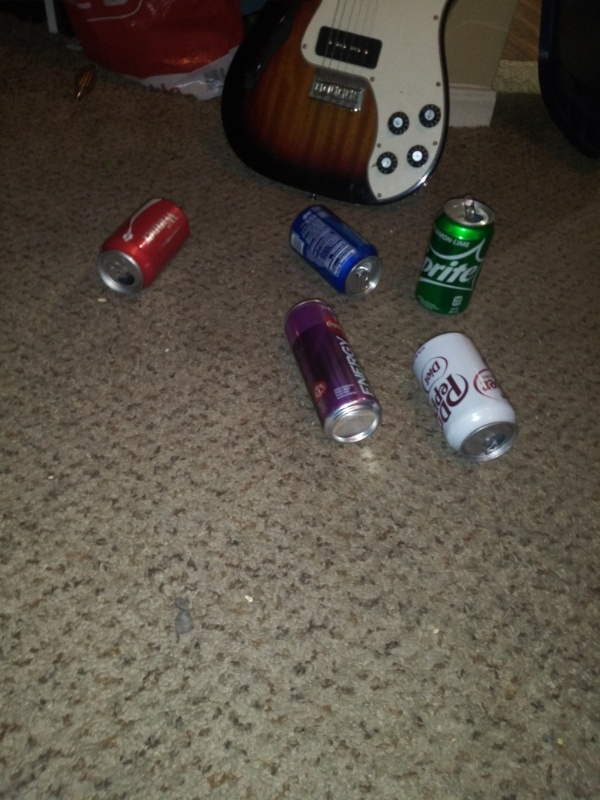can: (274, 295, 385, 449), (406, 327, 524, 468), (406, 192, 501, 321), (90, 191, 198, 302), (281, 197, 388, 300)
